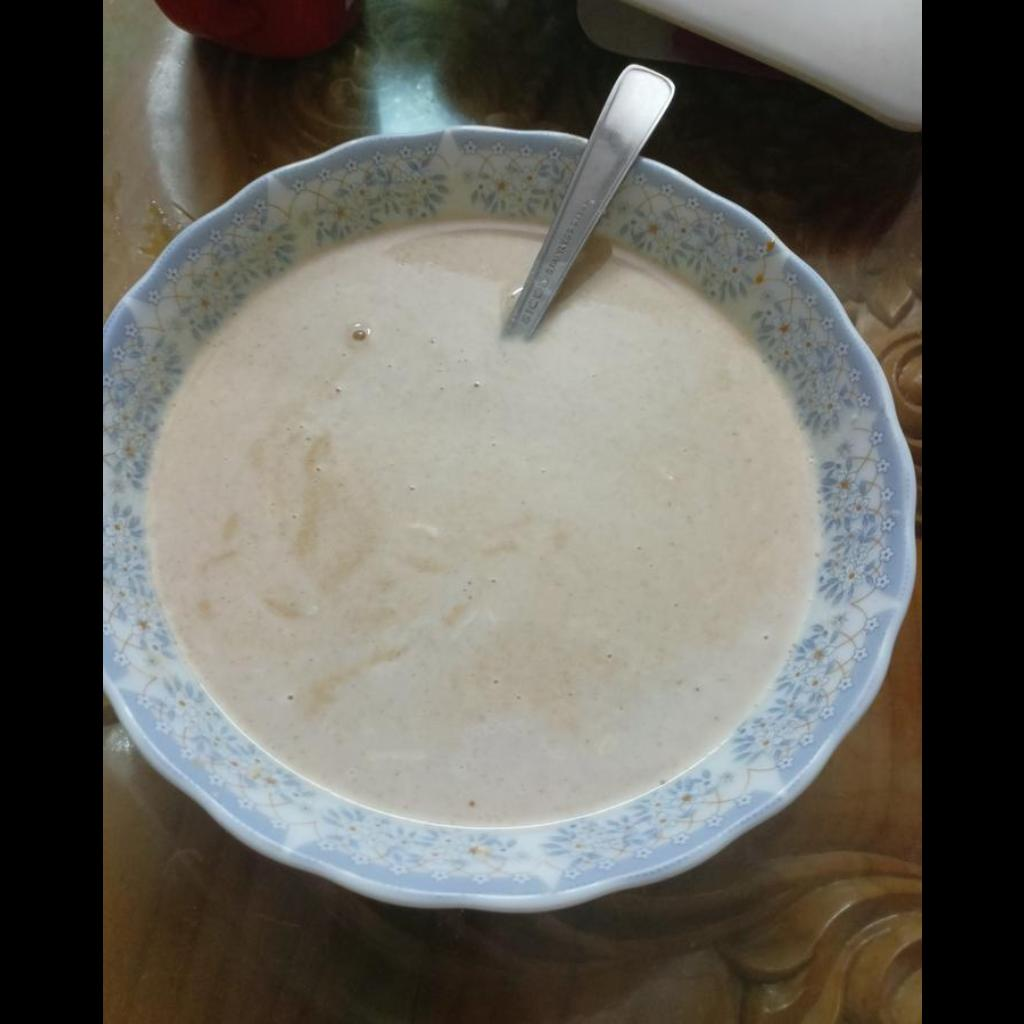payesh: (140, 225, 826, 828)
